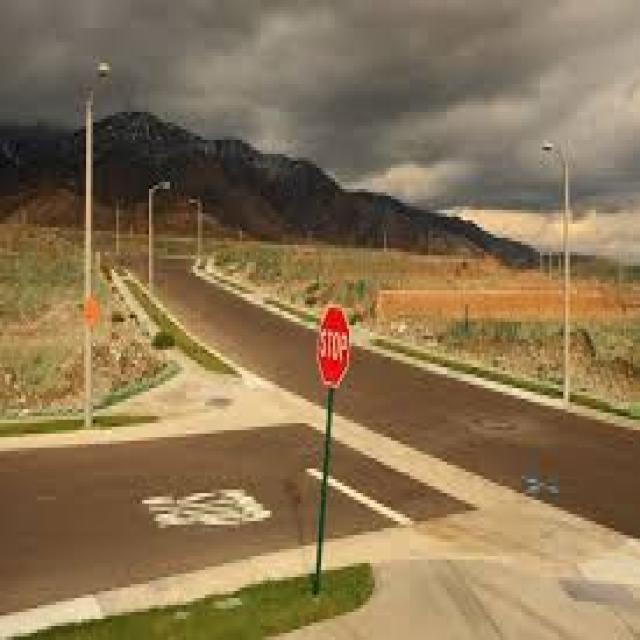stop-sign: (312, 297, 356, 392)
